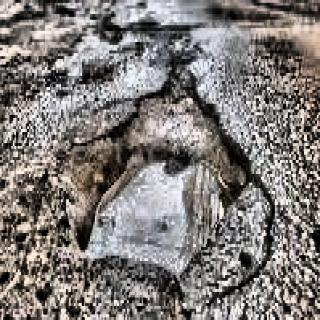pothole: (41, 71, 278, 320)
